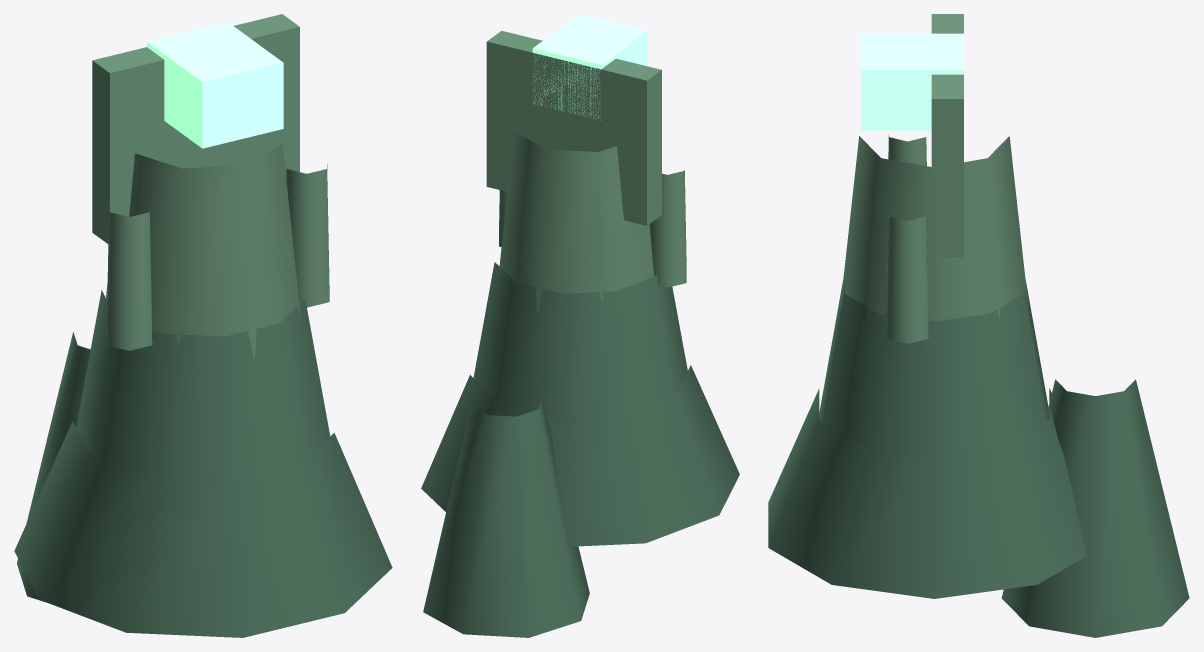
File: naga_spitter.glb
The picture shows the model from 3 angles, left to right: view 1: azimuth 30°, elevation 25°; view 2: azimuth 150°, elevation 25°; view 3: azimuth 270°, elevation 25°; orthographic projection. The views are drawn at different scales.
Visible parts, largest first — view 1: RootNode; view 2: RootNode; view 3: RootNode.
Part boxes in pixels (left/top/right/bottom): RootNode: left=14, top=14, right=392, bottom=637; RootNode: left=421, top=14, right=739, bottom=637; RootNode: left=768, top=14, right=1189, bottom=637.
Bounding box in the file's own units: 1.3 × 2.25 × 1.57.
